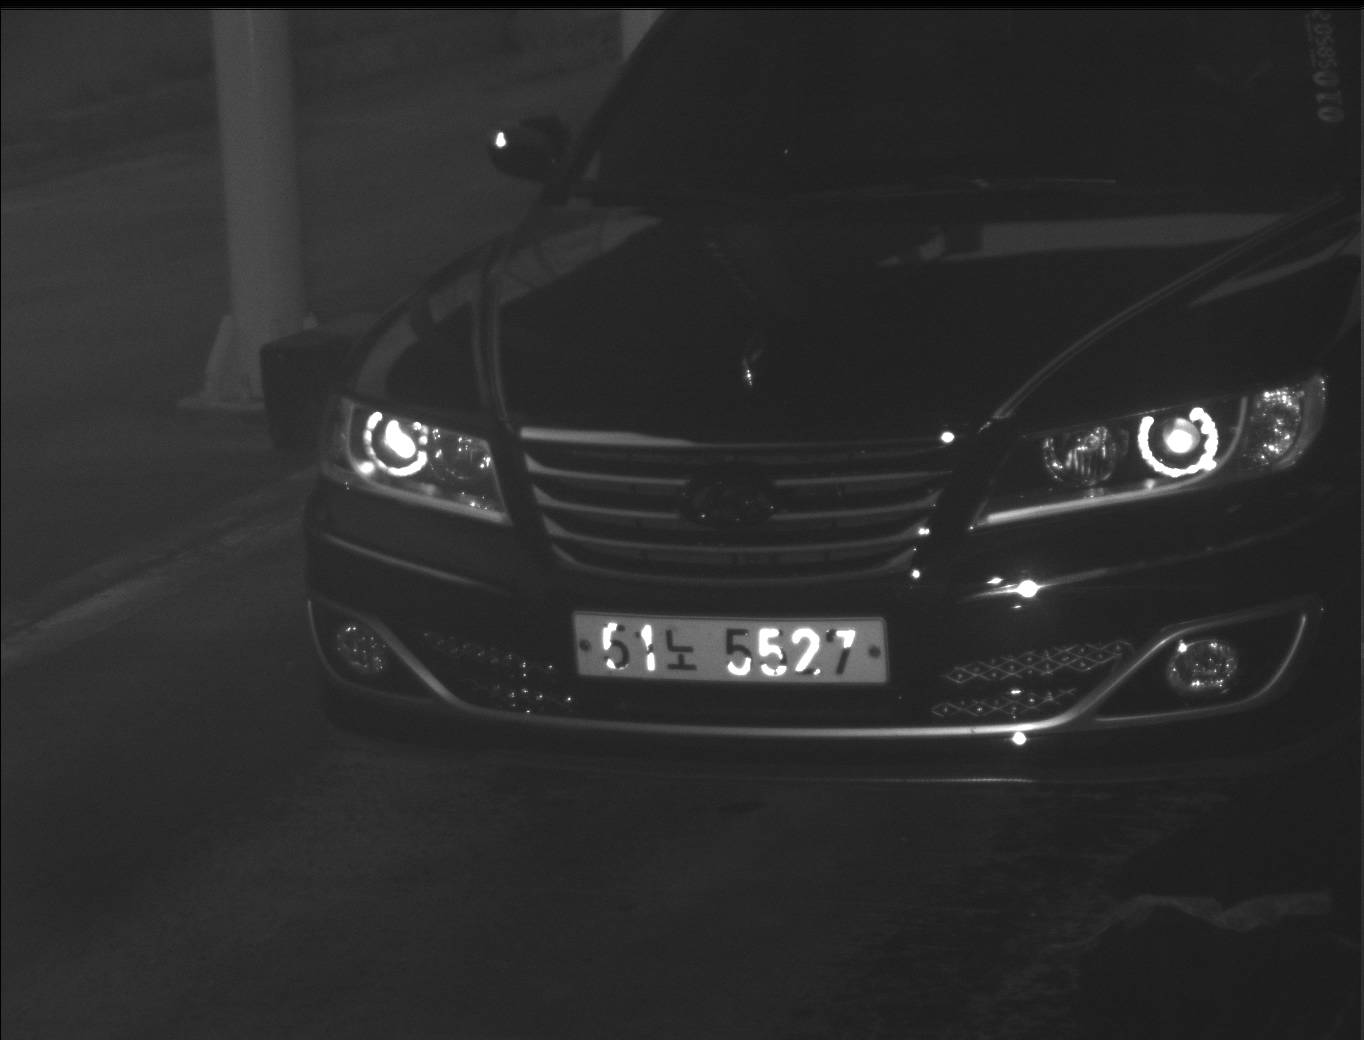car: (293, 1, 1360, 796)
plate: (566, 607, 892, 687)
